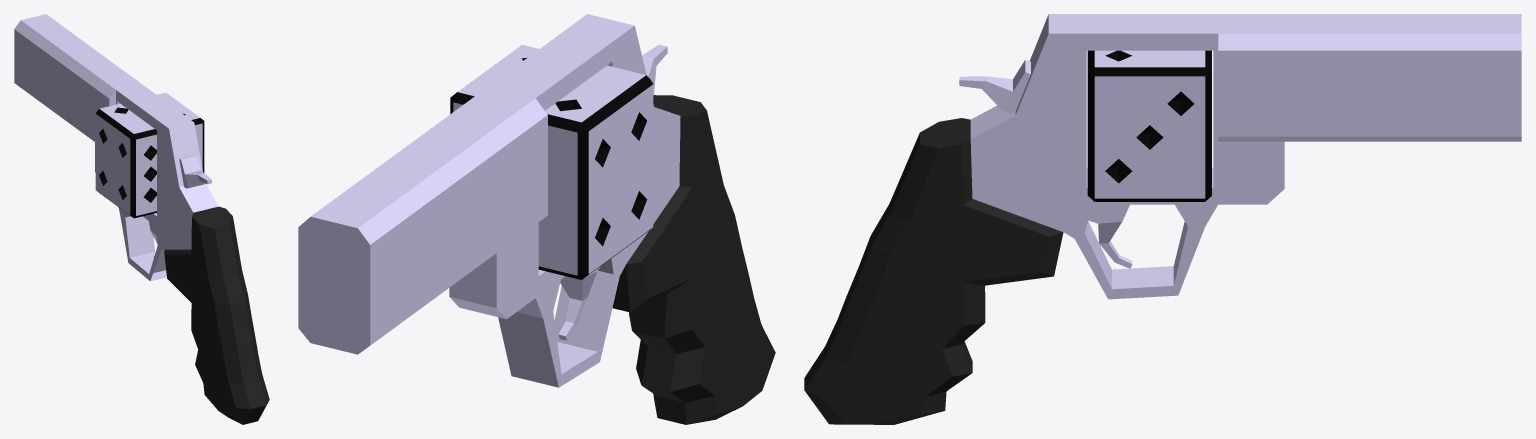
Rendered from DiceGun.fbx.
3 views of the same model, side by side, from view 1: azimuth 30°, elevation 25°; view 2: azimuth 150°, elevation 25°; view 3: azimuth 270°, elevation 25° (orthographic). The views are drawn at different scales.
Parts seen in each view (by area): view 1: Cube, Cube.001; view 2: Cube, Cube.001; view 3: Cube, Cube.001.
Boxes of the visible parts, x1=… form: Cube: x1=14, y1=14, x2=269, y2=424; Cube.001: x1=95, y1=92, x2=204, y2=218; Cube: x1=298, y1=14, x2=775, y2=424; Cube.001: x1=450, y1=45, x2=653, y2=279; Cube: x1=804, y1=14, x2=1521, y2=424; Cube.001: x1=1087, y1=50, x2=1211, y2=201.
Bounding box in the file's own units: 0.7947 × 2.54 × 4.18.
